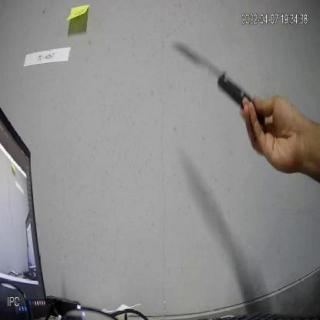knife: (170, 32, 268, 130)
